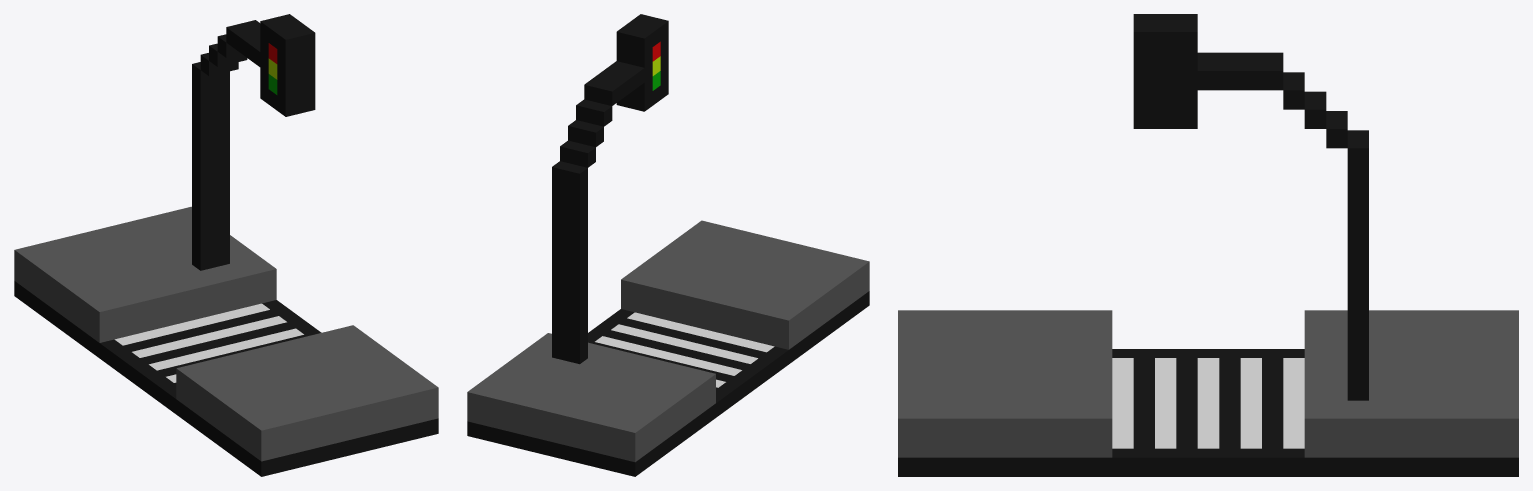
File: Traffic light.obj
The picture shows the model from 3 angles, left to right: view 1: azimuth 30°, elevation 25°; view 2: azimuth 150°, elevation 25°; view 3: azimuth 270°, elevation 25°; orthographic projection. The views are drawn at different scales.
Bounding box in the file's own units: 1.2 × 2.2 × 2.9.
Materials: 1 (1 with a texture image).
